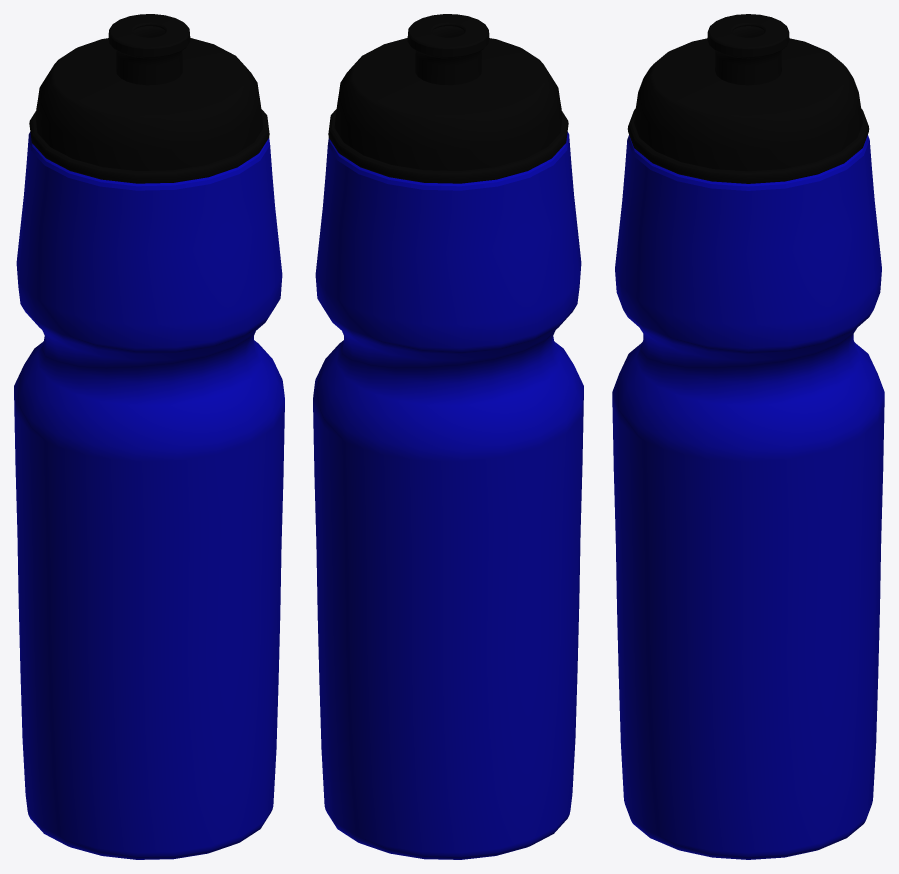
File: water_bottle.glb
3 views of the same model, side by side, from view 1: azimuth 30°, elevation 25°; view 2: azimuth 150°, elevation 25°; view 3: azimuth 270°, elevation 25° (orthographic).
Parts seen in each view (by area): view 1: pCylinder1, pCylinder2; view 2: pCylinder1, pCylinder2; view 3: pCylinder1, pCylinder2.
Part boxes in pixels (box(x1,y1,x2,y2)): pCylinder1: box(14, 132, 284, 859); pCylinder2: box(29, 14, 269, 183); pCylinder1: box(313, 132, 583, 859); pCylinder2: box(328, 14, 568, 183); pCylinder1: box(612, 135, 884, 859); pCylinder2: box(627, 14, 869, 183).
Bounding box in the file's own units: 2.72 × 8.62 × 2.72.
